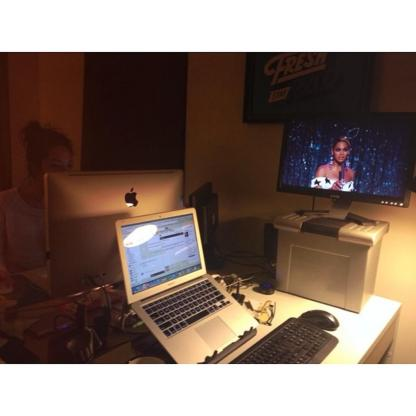board: (126, 197, 272, 358)
